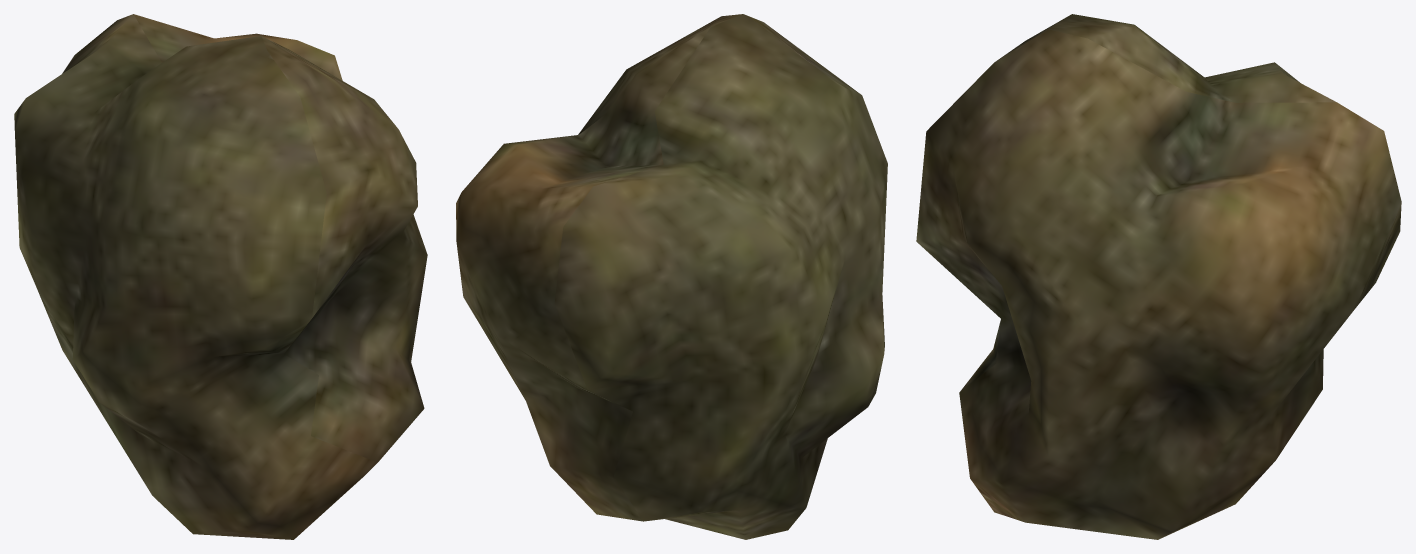
The model's file is Biomass - F 1-Adl0WBZ6.glb.
The picture shows the model from 3 angles, left to right: view 1: azimuth 30°, elevation 25°; view 2: azimuth 150°, elevation 25°; view 3: azimuth 270°, elevation 25°; orthographic projection. The views are drawn at different scales.
Visible parts, largest first — view 1: BiomassF_1; view 2: BiomassF_1; view 3: BiomassF_1.
Part boxes in pixels (x1,y1,x2,y2): BiomassF_1: [14, 14, 427, 539]; BiomassF_1: [456, 14, 887, 539]; BiomassF_1: [916, 14, 1401, 539].
Bounding box in the file's own units: 0.335 × 0.457 × 0.4034.
1 material, 1 textured.
